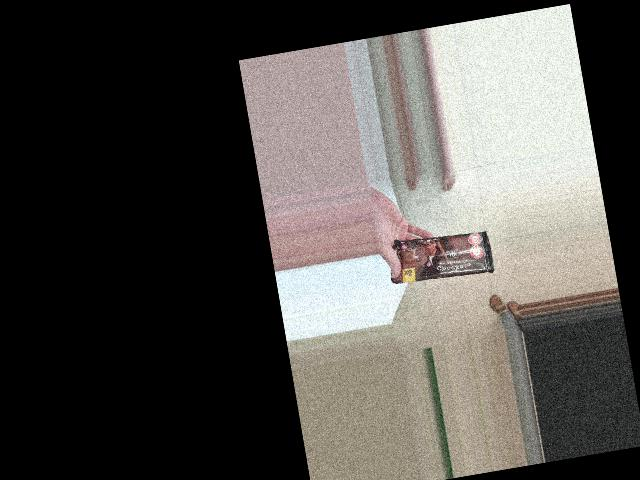chocolate: (432, 211, 508, 329)
